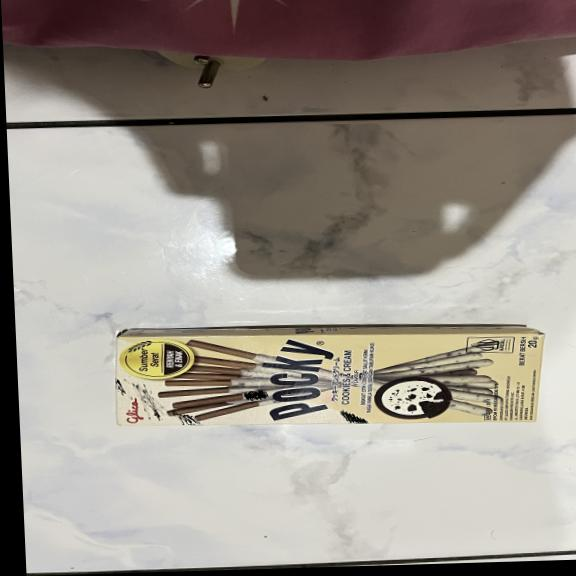Kertas: (110, 320, 548, 436)
